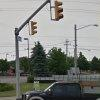Traffic light: (43, 0, 71, 28)
